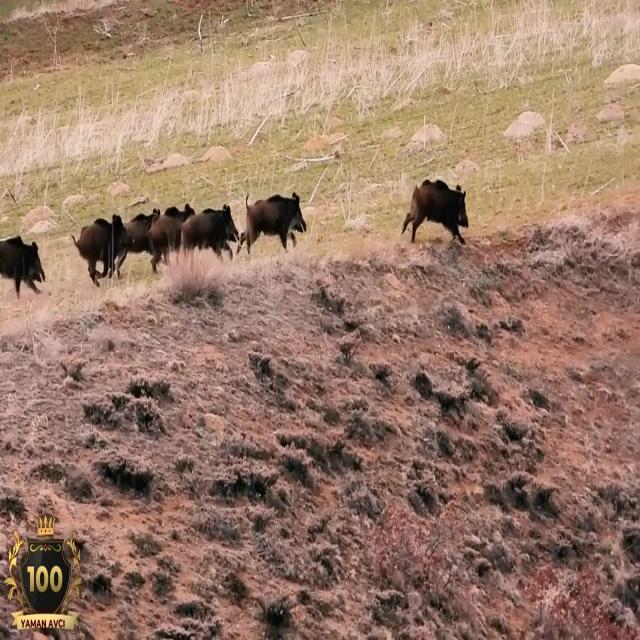pig: (228, 188, 326, 298), (164, 184, 265, 285), (400, 158, 482, 260), (74, 202, 145, 292), (138, 198, 198, 295)
